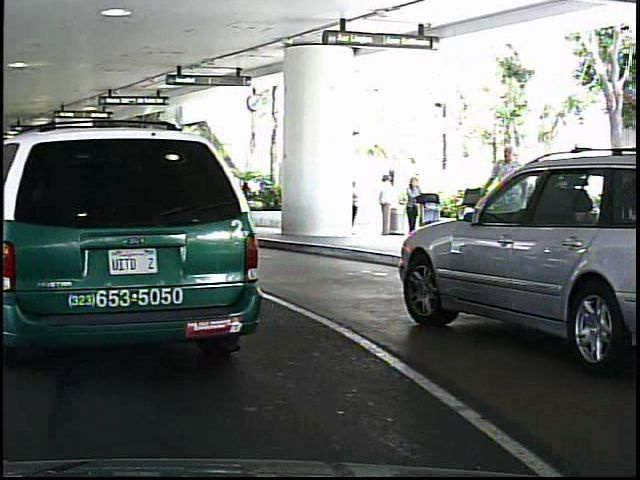person: (479, 137, 529, 275), (397, 168, 427, 239)
